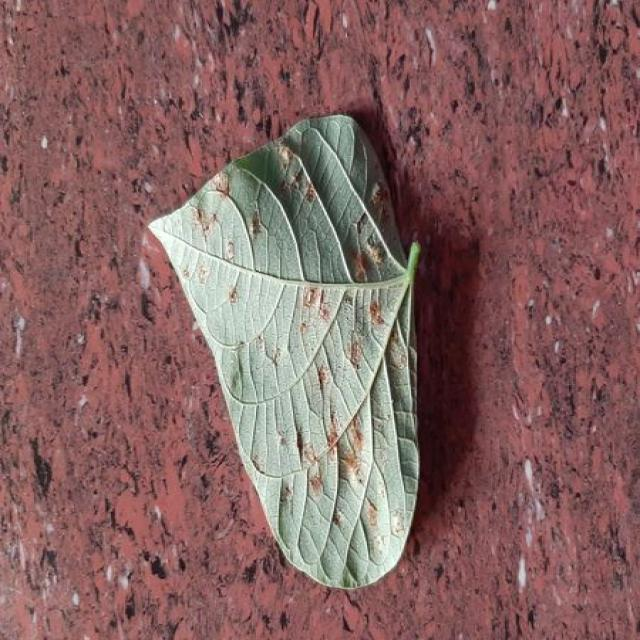beans: (150, 115, 418, 588)
defectedbeans: (153, 220, 418, 588), (223, 115, 405, 277)
